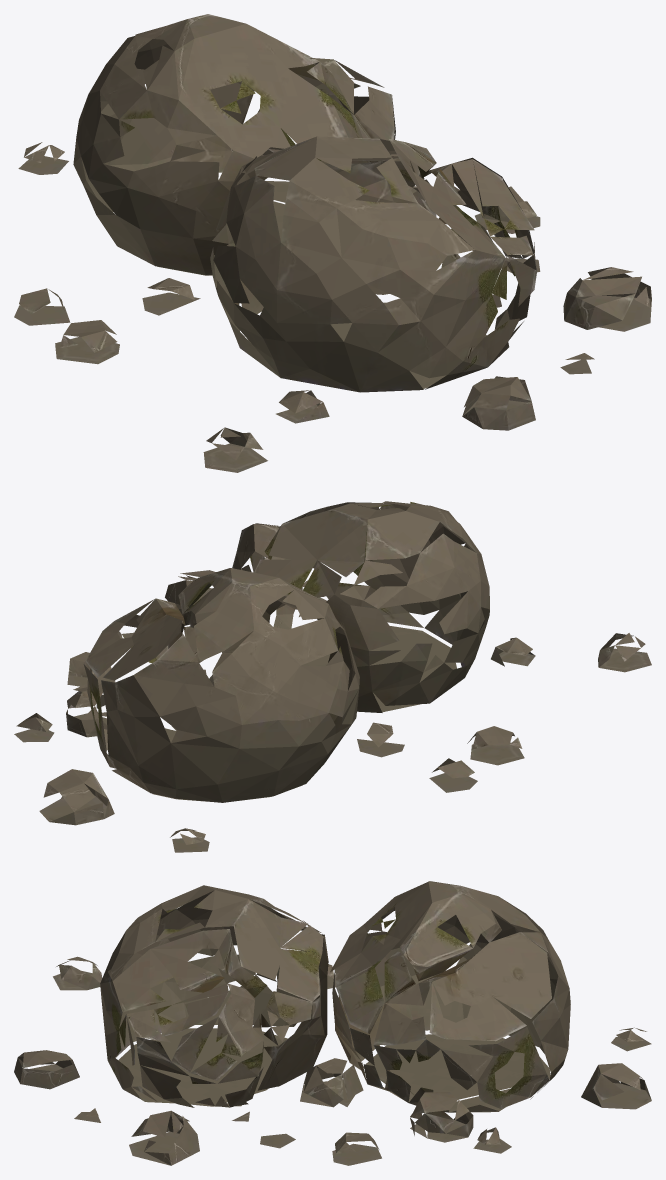
File: rocks_small_LOD1.glb
3 renders of one model, top to bottom at view 1: azimuth 30°, elevation 25°; view 2: azimuth 150°, elevation 25°; view 3: azimuth 270°, elevation 25°, orthographic. The views are drawn at different scales.
Parts seen in each view (by area): view 1: rocks_small_LOD1; view 2: rocks_small_LOD1; view 3: rocks_small_LOD1.
Boxes of the visible parts, x1=… form: rocks_small_LOD1: x1=14, y1=14, x2=651, y2=472; rocks_small_LOD1: x1=14, y1=501, x2=651, y2=852; rocks_small_LOD1: x1=14, y1=881, x2=651, y2=1165.
Bounding box in the file's own units: 0.7298 × 0.2954 × 0.9998.
Materials: 1 (1 with a texture image).
